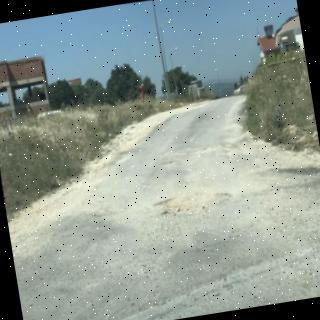pothole: (155, 191, 233, 216)
